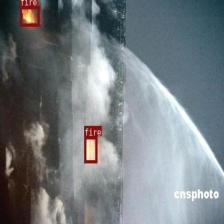fire: (19, 6, 39, 26), (84, 136, 97, 162)
